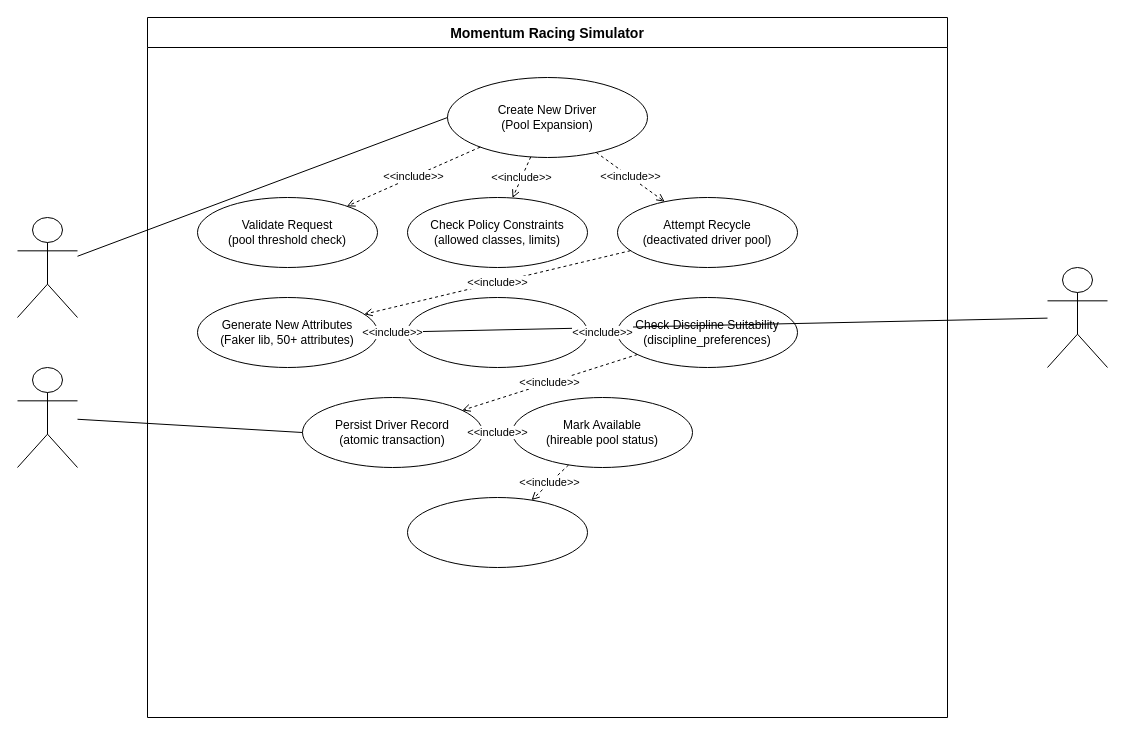
The diagram is 1125 pixels wide and 735 high, and some of its shapes have lost their labels. The shapes that lost their labels are listed below. From the top down, each one's centre as x and y in pixels, then its label:
At (x=47, y=267): "Admin".
At (x=497, y=332): "Validate Attributes (unique name, valid age)".
At (x=1077, y=317): "Generator Service".
At (x=47, y=417): "System Generator".
At (x=497, y=532): "Return 201 Created (with driver resource)".
